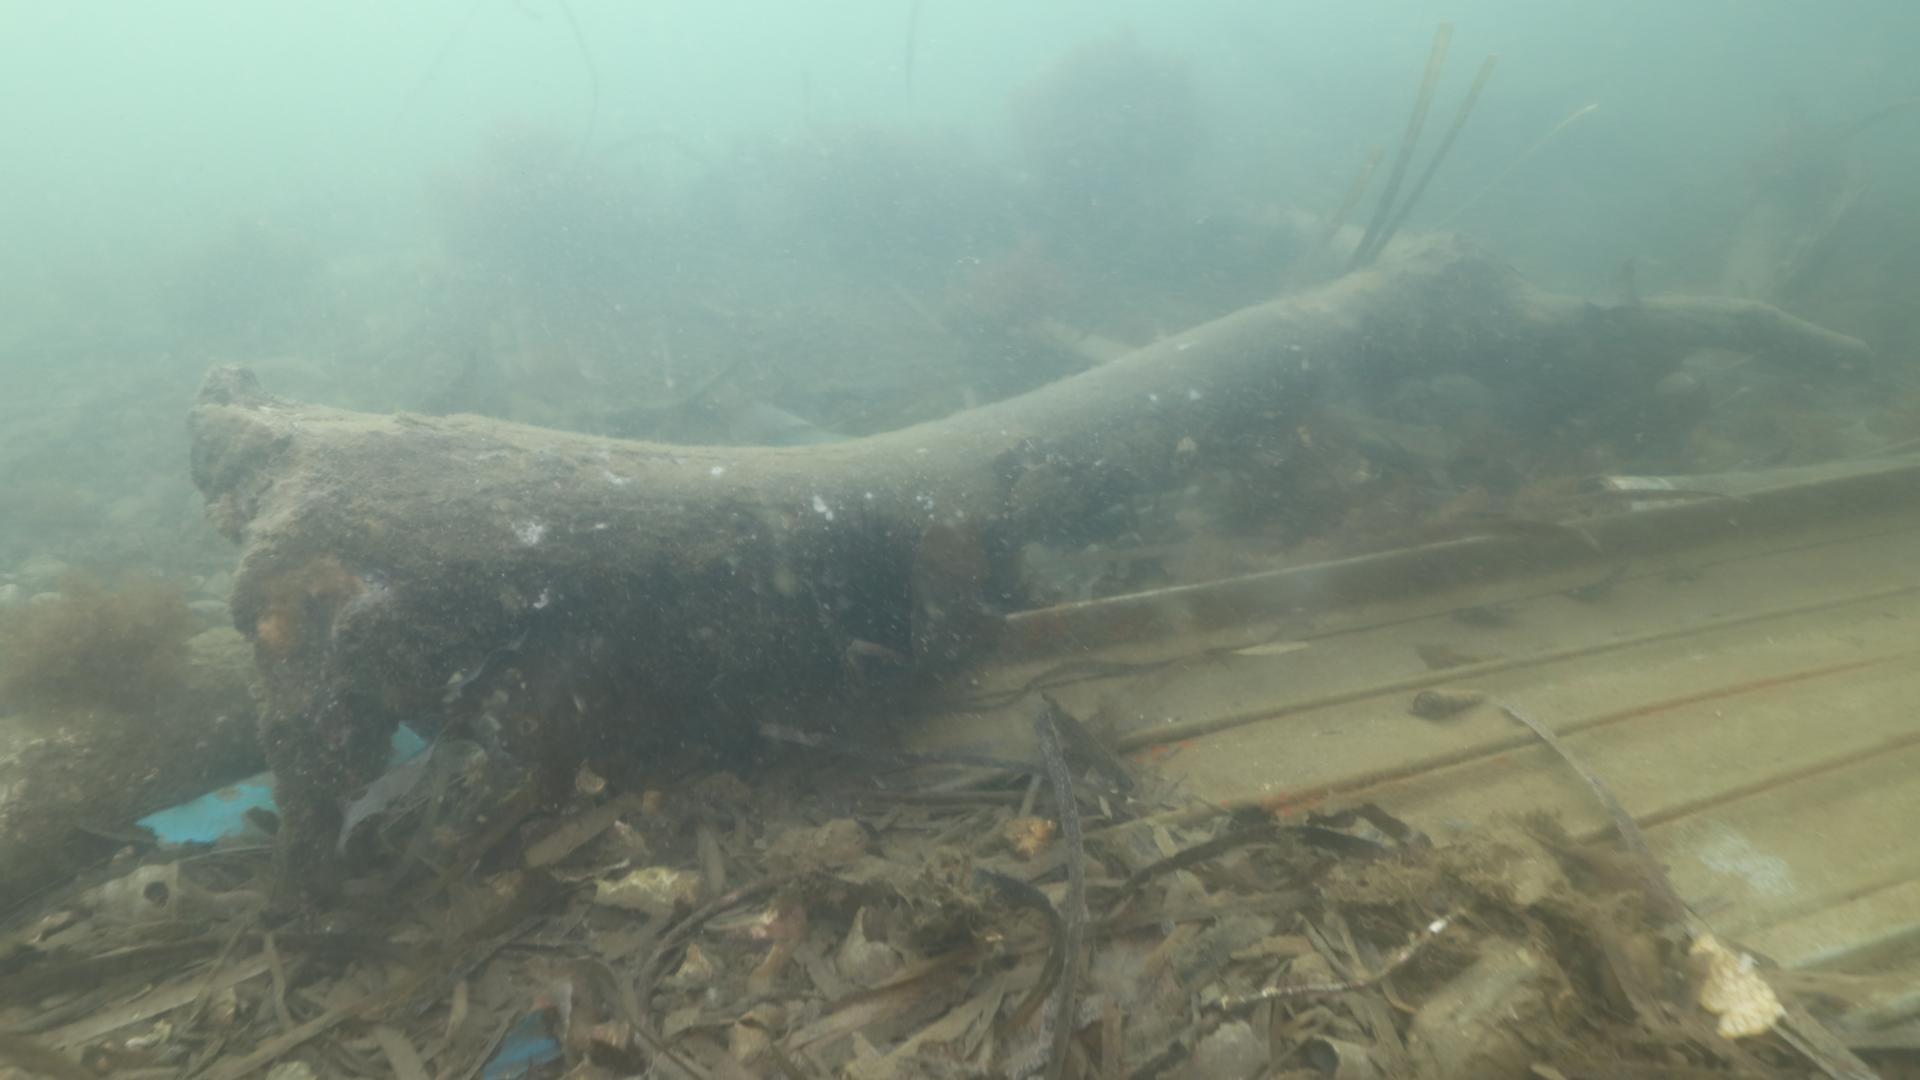wood: (187, 179, 1861, 880)
